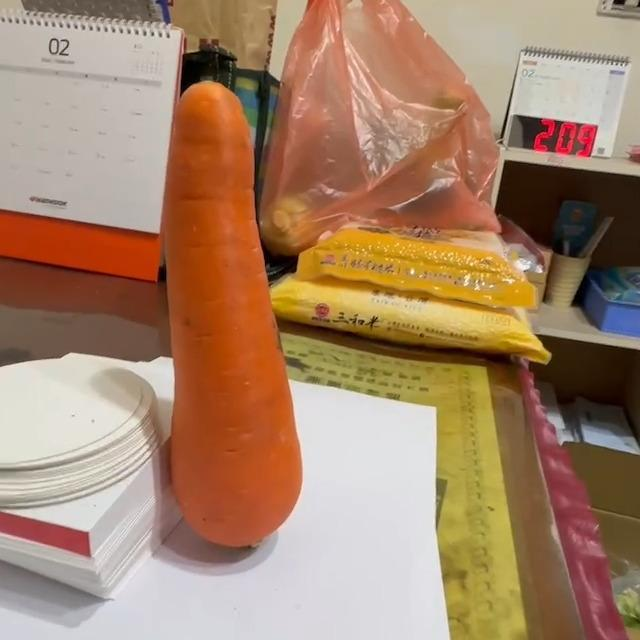carrot: (160, 81, 308, 553)
